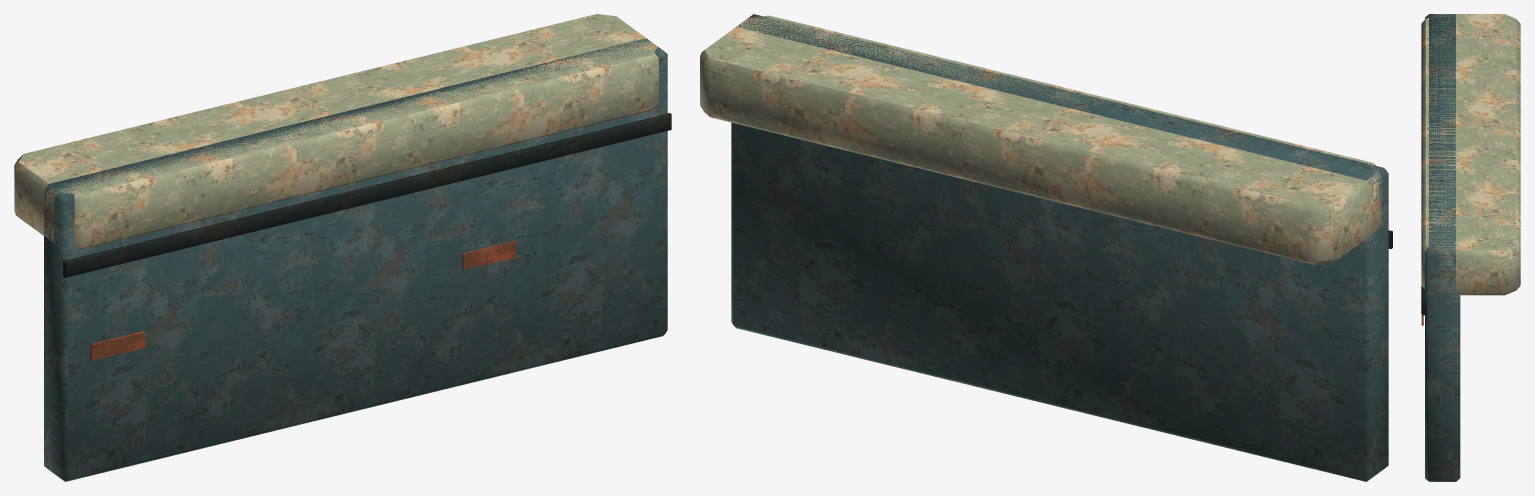
The model's file is island_rim.glb.
The picture shows the model from 3 angles, left to right: view 1: azimuth 30°, elevation 25°; view 2: azimuth 150°, elevation 25°; view 3: azimuth 270°, elevation 25°; orthographic projection. The views are drawn at different scales.
Visible parts, largest first — view 1: HardwareSkin; view 2: HardwareSkin; view 3: HardwareSkin.
Part boxes in pixels (box(x1,y1,x2,y2)): HardwareSkin: box(14, 14, 671, 481); HardwareSkin: box(700, 14, 1392, 481); HardwareSkin: box(1421, 14, 1520, 481).
Size of the model in its own units: 4 by 1.8 by 0.7.
Materials: 1 (1 with a texture image).
